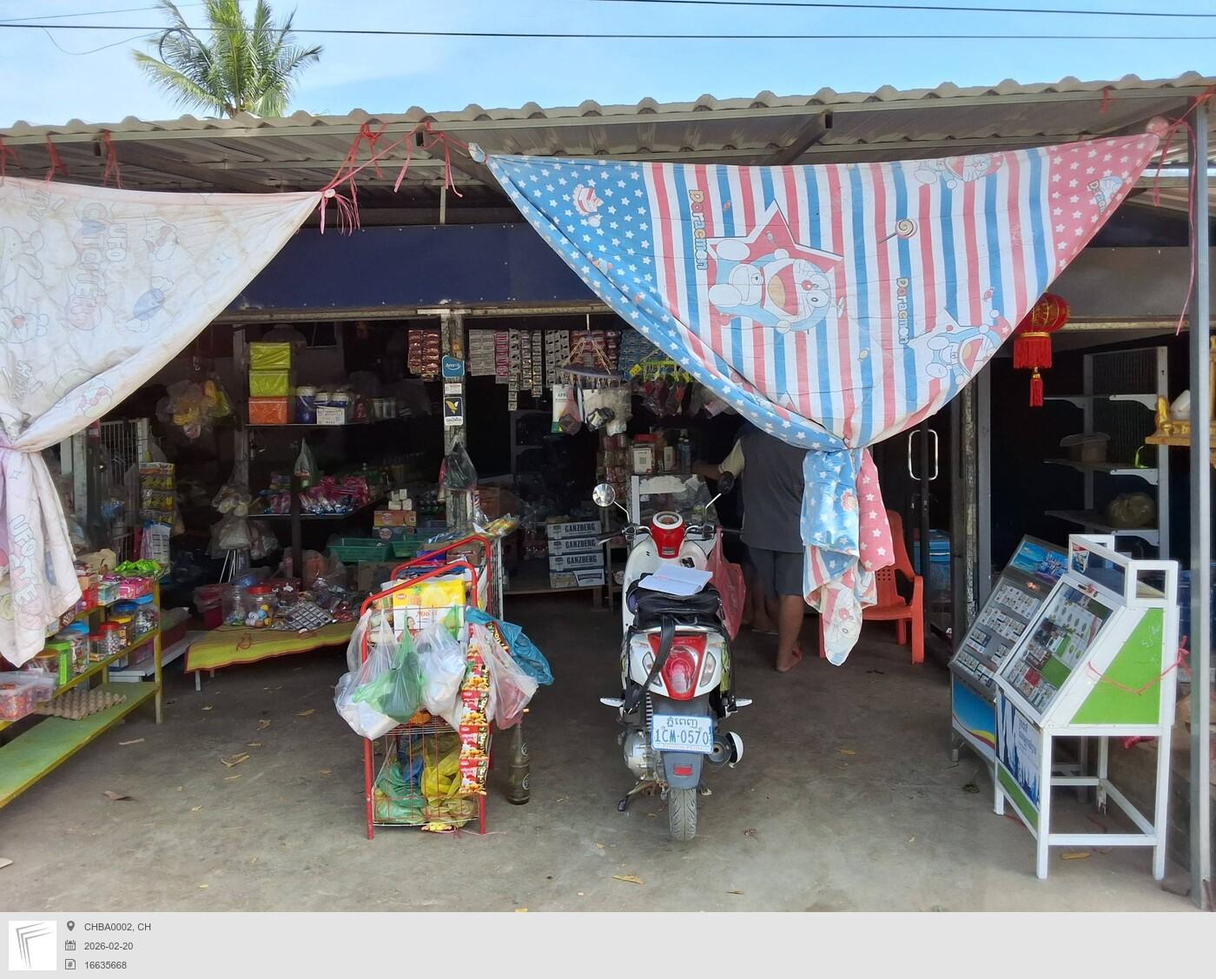cigarette_pack: (1068, 642, 1090, 670), (1061, 635, 1080, 667), (1022, 672, 1042, 698), (1039, 685, 1057, 712), (1084, 617, 1101, 645), (1005, 660, 1024, 685), (1076, 615, 1092, 643), (1034, 683, 1052, 707), (1063, 605, 1080, 630), (1019, 596, 1039, 617), (1012, 664, 1031, 686), (1029, 679, 1046, 703), (1017, 668, 1033, 692), (1049, 592, 1061, 624), (974, 632, 992, 653), (1070, 613, 1086, 636), (1012, 592, 1029, 612), (962, 658, 981, 675), (1024, 640, 1038, 663), (1057, 601, 1070, 625), (1029, 646, 1043, 668), (964, 630, 982, 647), (979, 668, 995, 687), (1008, 590, 1023, 609), (991, 645, 1006, 664), (959, 654, 976, 670), (953, 650, 968, 668), (978, 607, 994, 623), (994, 582, 1006, 603), (1003, 586, 1015, 606), (972, 662, 984, 682)
